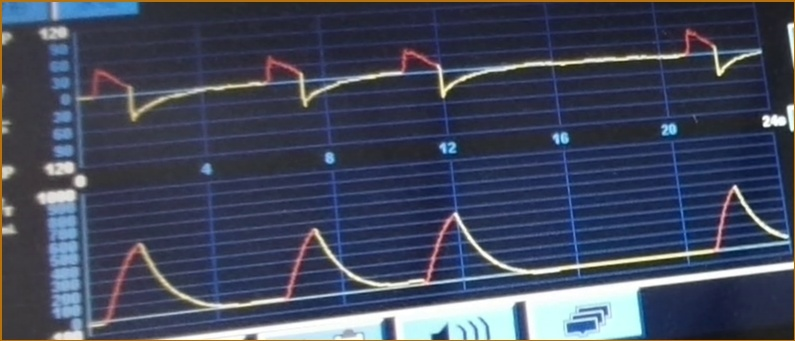Normal Flow: (80, 26, 760, 122)
Normal Volume: (93, 184, 790, 325)
